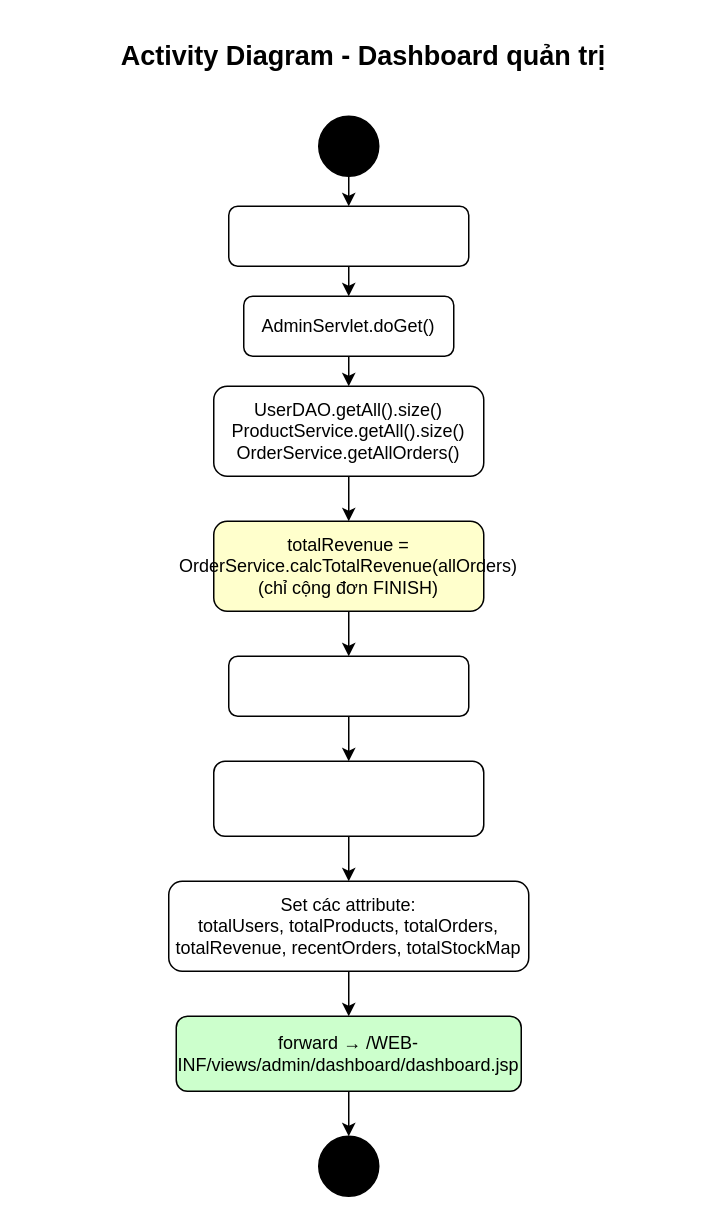
Image size: 726x1223. Some labels were removed from this diagram. The centre of each missing label's shape, as x and y in pixels:
Admin/Staff mở /admin/dashboard: pixel 348 235
recentOrders = top 5 đơn mới nhất: pixel 348 685
Tính totalStockMap cho từng sản phẩm (SanPhamChiTietDAO): pixel 348 798
